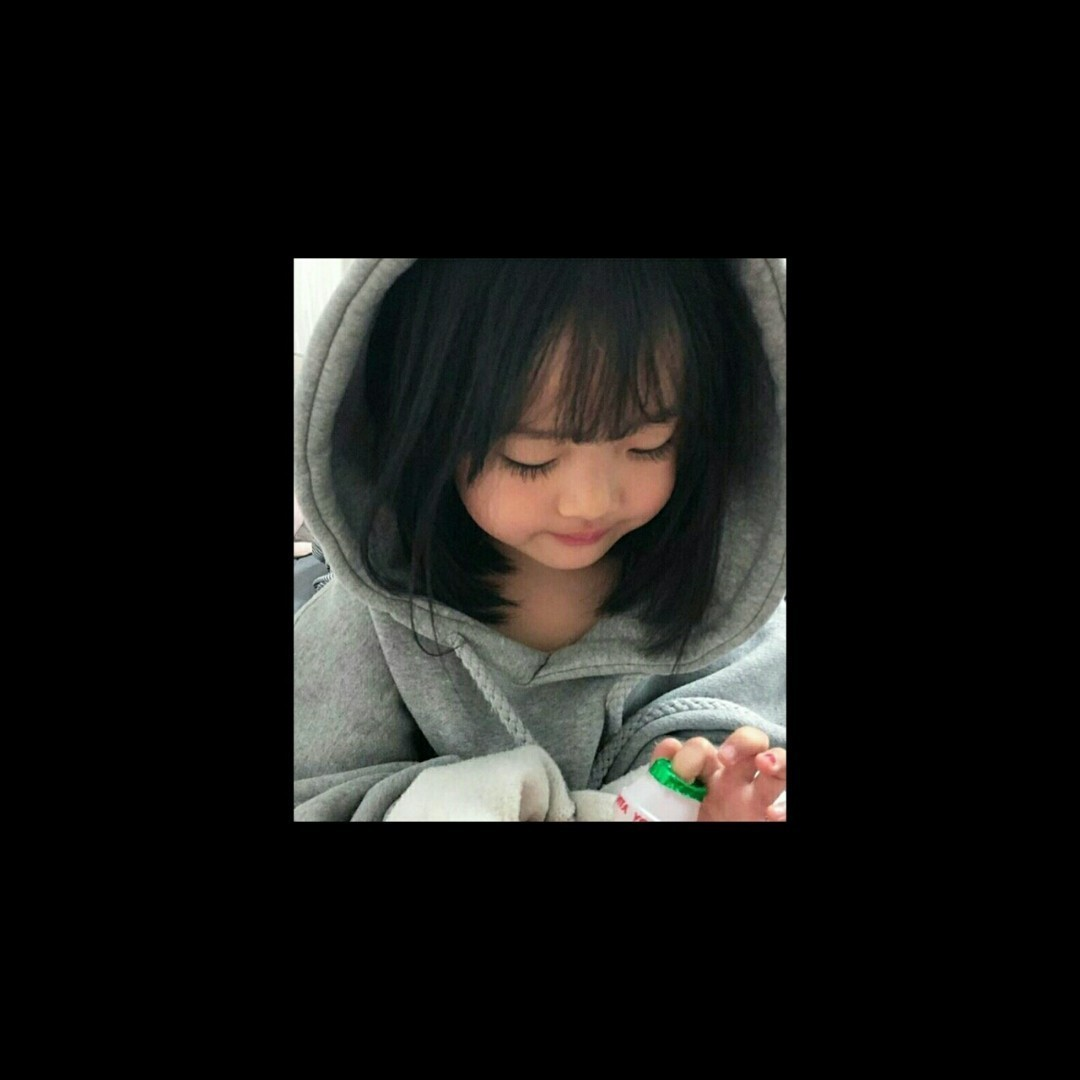people: (293, 256, 787, 823)
